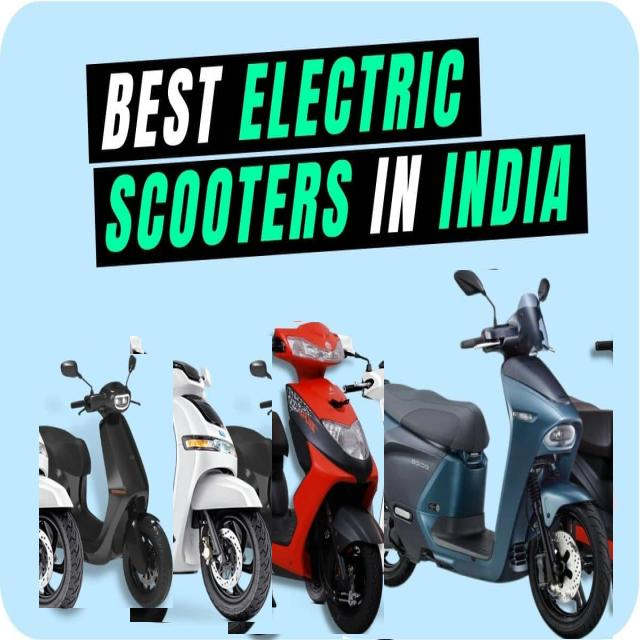motorcycle: (344, 270, 613, 639), (229, 323, 384, 634), (130, 336, 272, 622), (40, 355, 173, 608)
